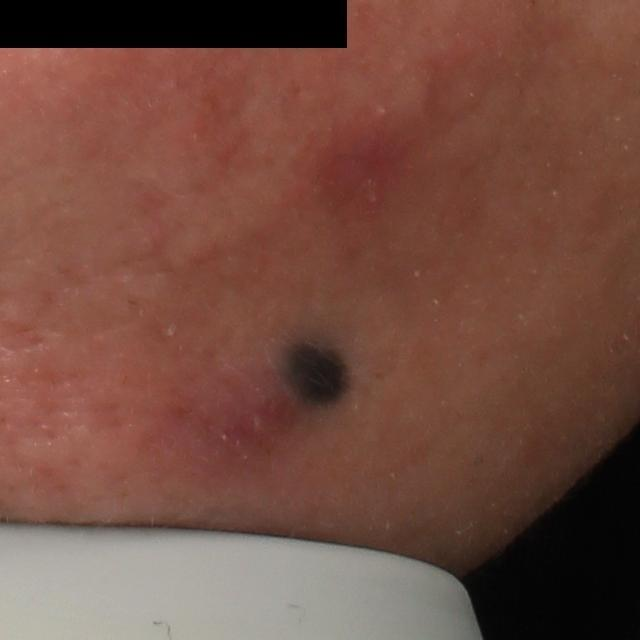nevus: (274, 333, 359, 411)
